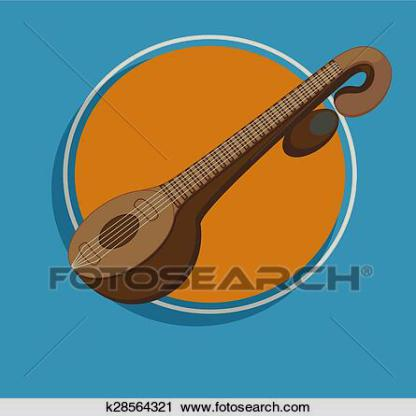Veena: (63, 134, 244, 301)
